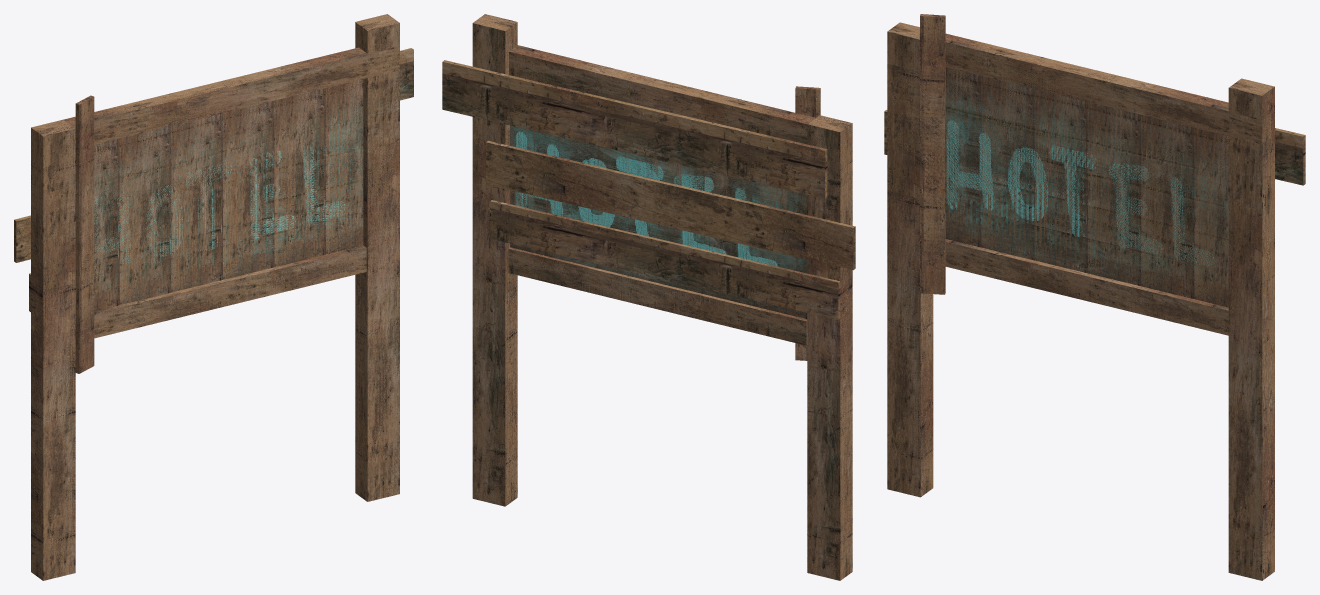
The model's file is board.fbx.
3 renders of one model, left to right at view 1: azimuth 30°, elevation 25°; view 2: azimuth 150°, elevation 25°; view 3: azimuth 330°, elevation 25°, orthographic. The views are drawn at different scales.
Visible parts, largest first — view 1: Group1; view 2: Group1; view 3: Group1.
Boxes of the visible parts, x1,y1,x2,y2 form: Group1: (14, 14, 413, 580); Group1: (442, 14, 855, 580); Group1: (884, 14, 1305, 580).
Bounding box in the file's own units: 171 × 192 × 15.57.
